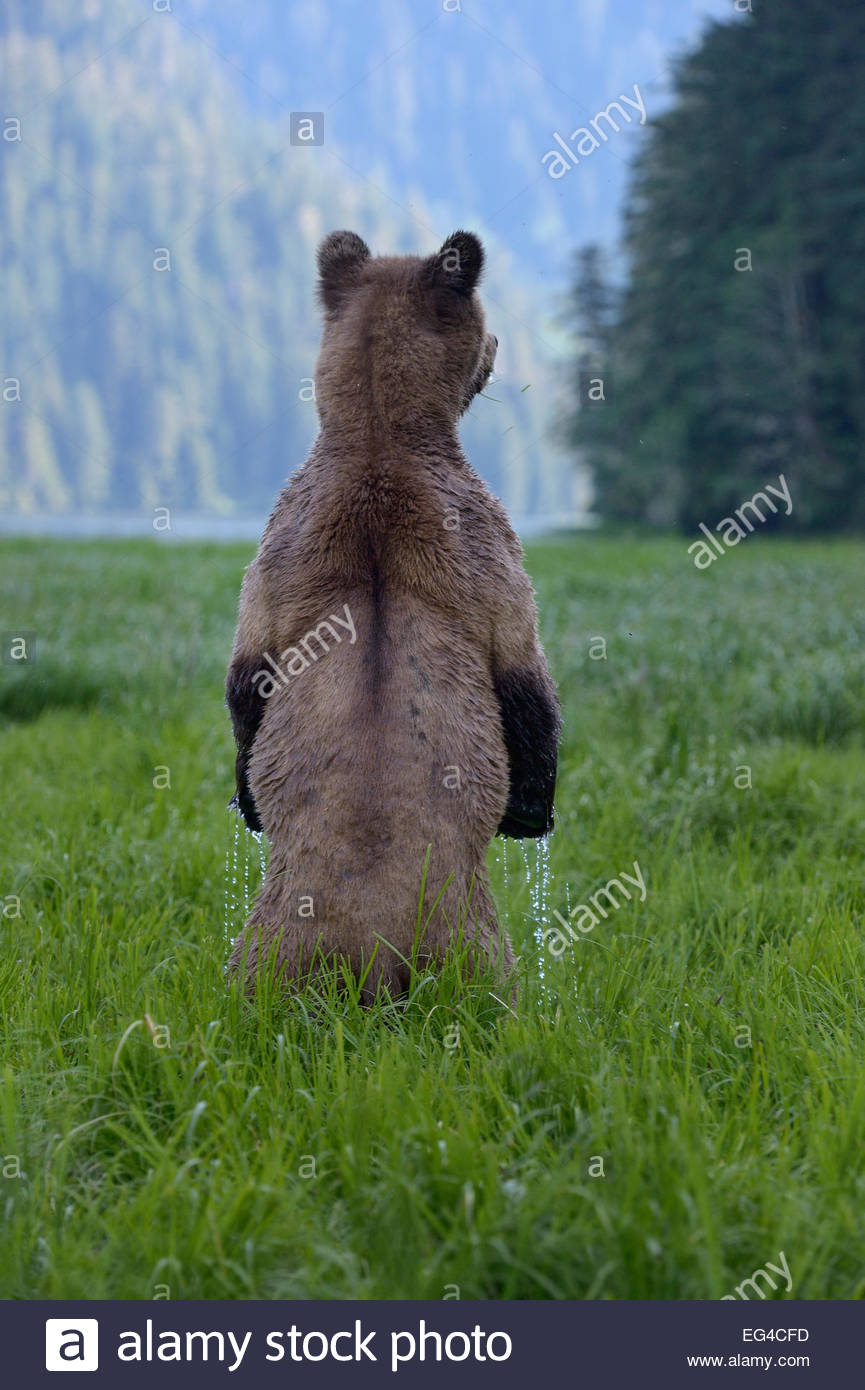bear: (212, 212, 569, 1006)
